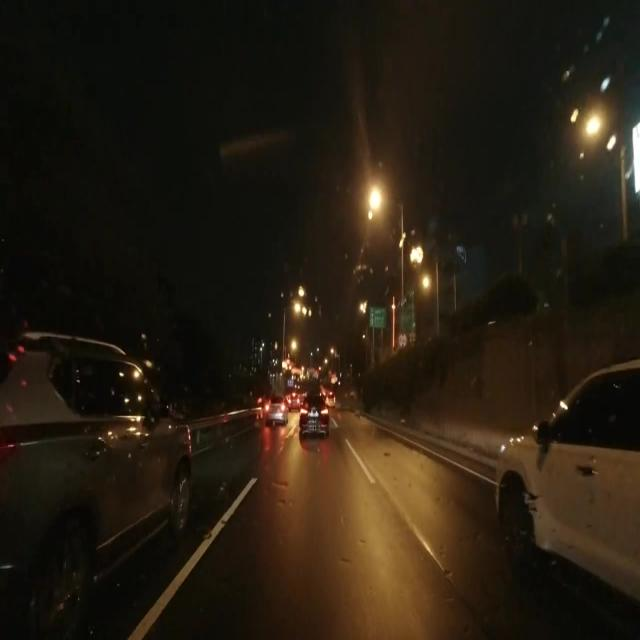Car: (9, 330, 184, 639), (497, 346, 639, 603), (299, 394, 329, 441), (261, 395, 286, 424)
